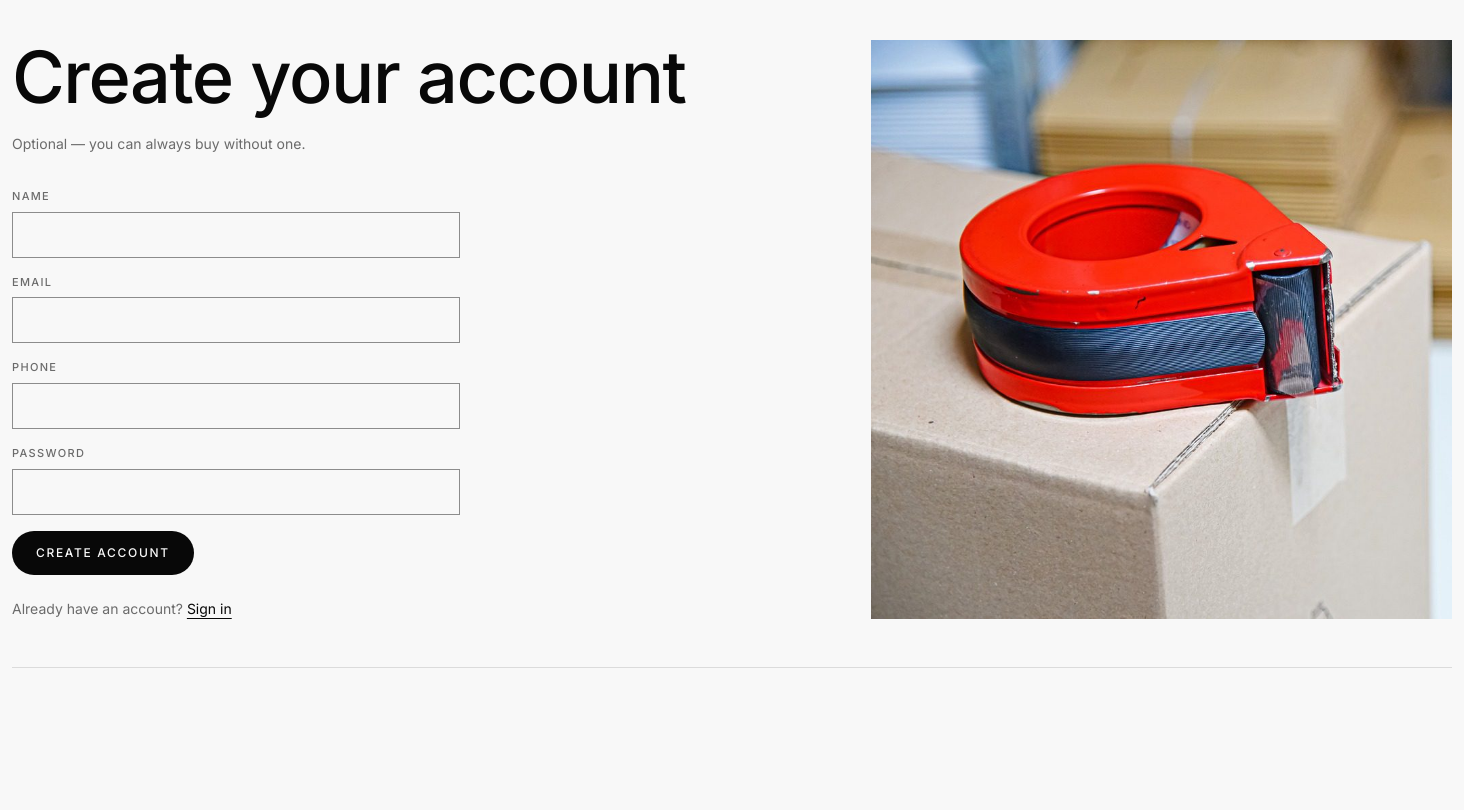
Test case: sign up (SC-18, SC-19) › labels four fields and names every empty one when the button is pressed, sending nothing
Expected: the heading "Create your account" is shown, [12, 40, 716, 113]
Expected: the text "Optional — you can always buy without one." is shown, [12, 135, 305, 152]
Click the button "Create account" at (103, 553), box [12, 531, 194, 575]
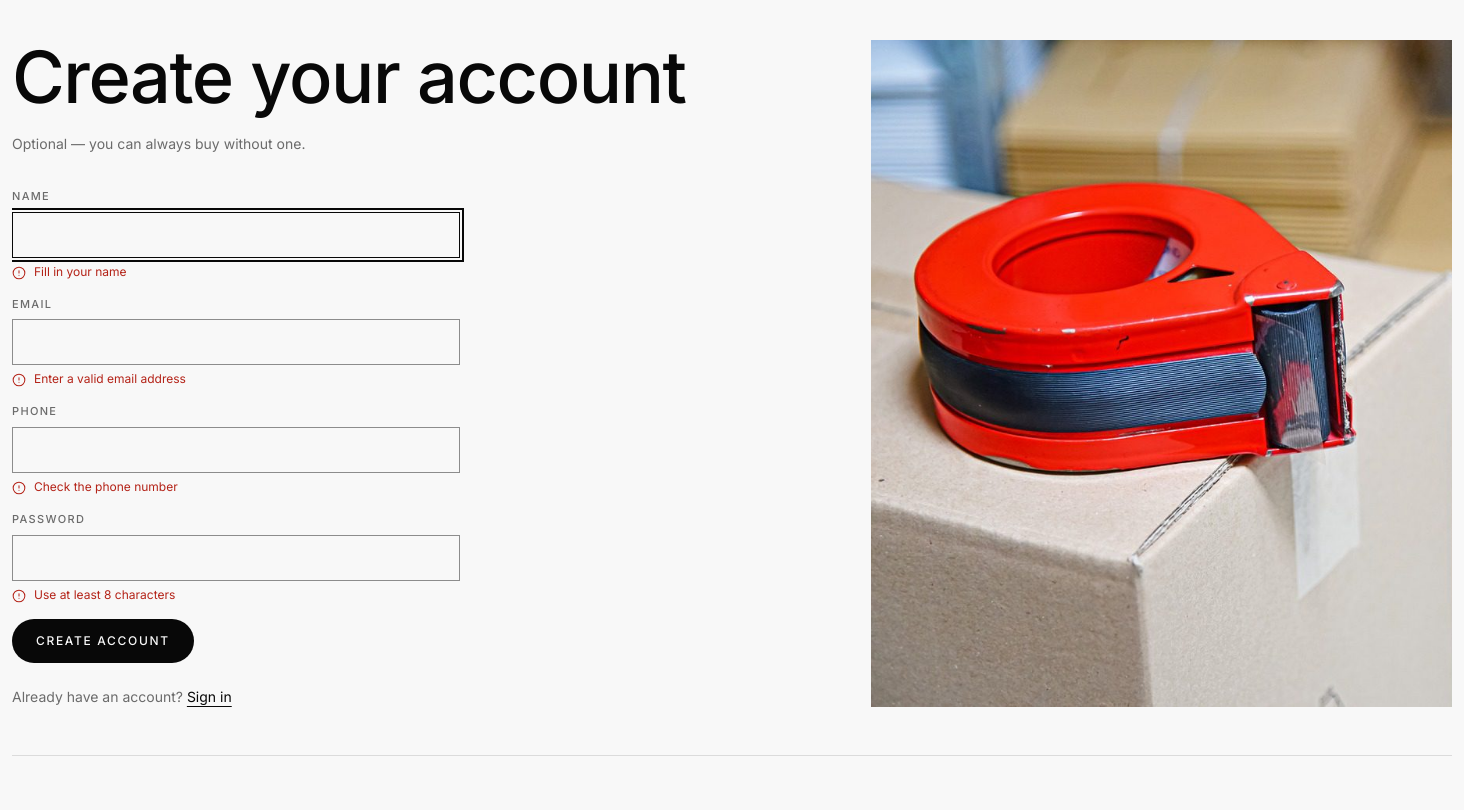
Expected: the messages read "Fill in your name", "Enter a valid email address", "Check the phone number", "Use at least 8 characters", in this order, [12, 264, 127, 280]; [12, 371, 186, 387]; [12, 479, 178, 495]; [12, 587, 175, 603]
